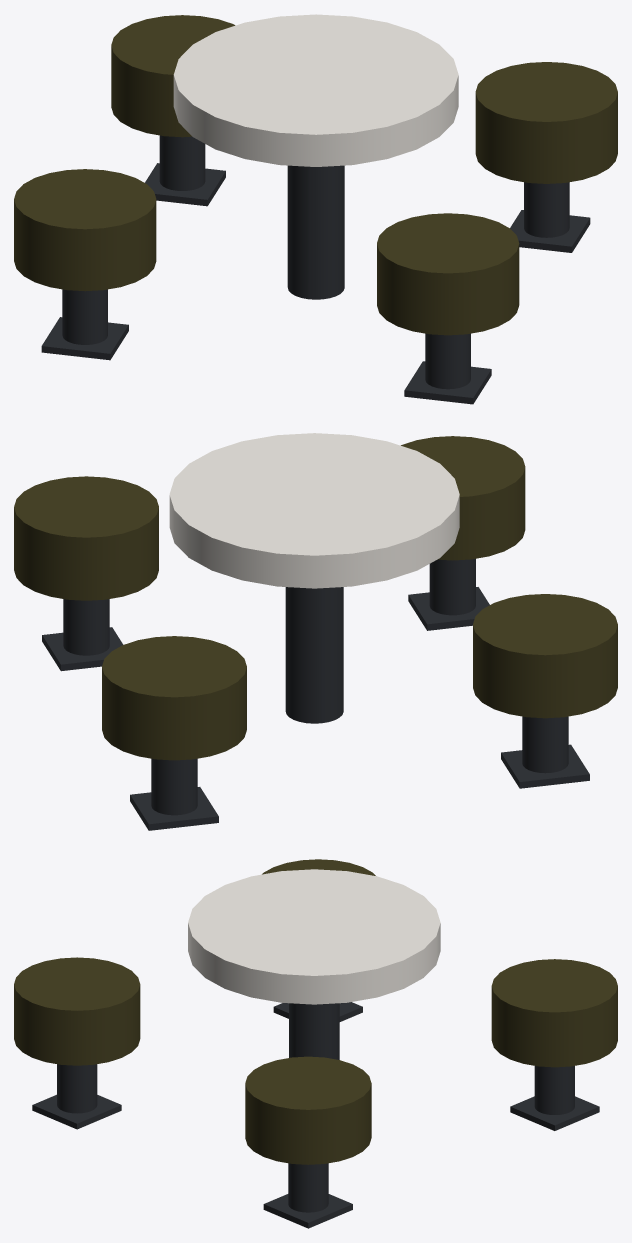
Rendered from Circular Table.fbx.
3 renders of one model, top to bottom at view 1: azimuth 30°, elevation 25°; view 2: azimuth 150°, elevation 25°; view 3: azimuth 270°, elevation 25°, orthographic. The views are drawn at different scales.
Parts seen in each view (by area): view 1: Stool.020; view 2: Stool.020; view 3: Stool.020.
Boxes of the visible parts, bbox=[...] form: Stool.020: bbox=[14, 14, 617, 404]; Stool.020: bbox=[14, 433, 617, 830]; Stool.020: bbox=[14, 859, 617, 1228].
Bounding box in the file's own units: 239 × 235 × 82.5.
